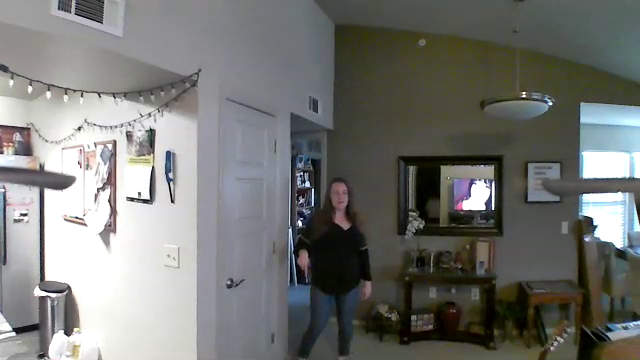down: (294, 243, 316, 284)
